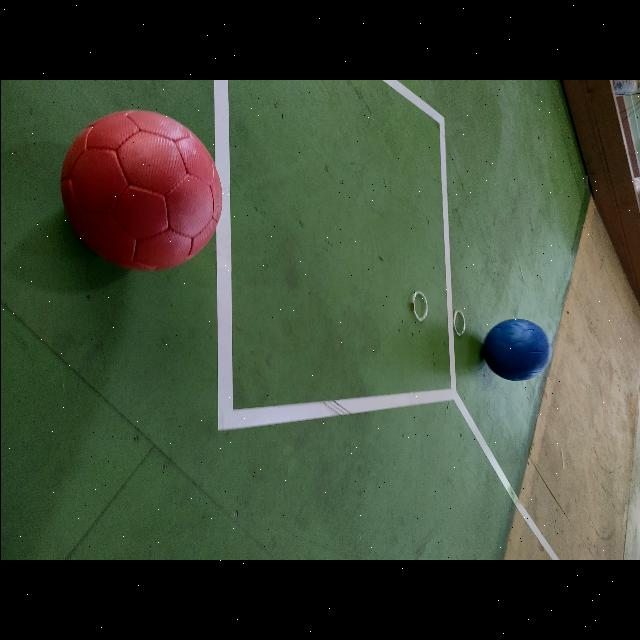B: (482, 319, 550, 381)
R: (60, 110, 220, 270)
